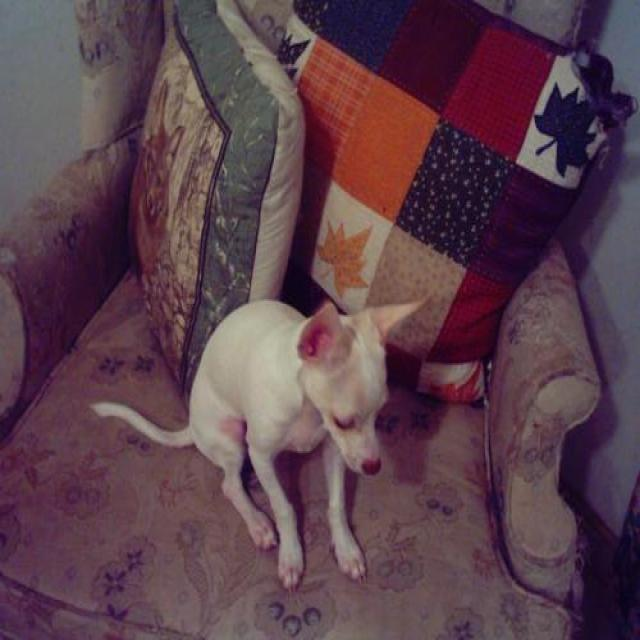Dogs: (87, 292, 430, 590)
